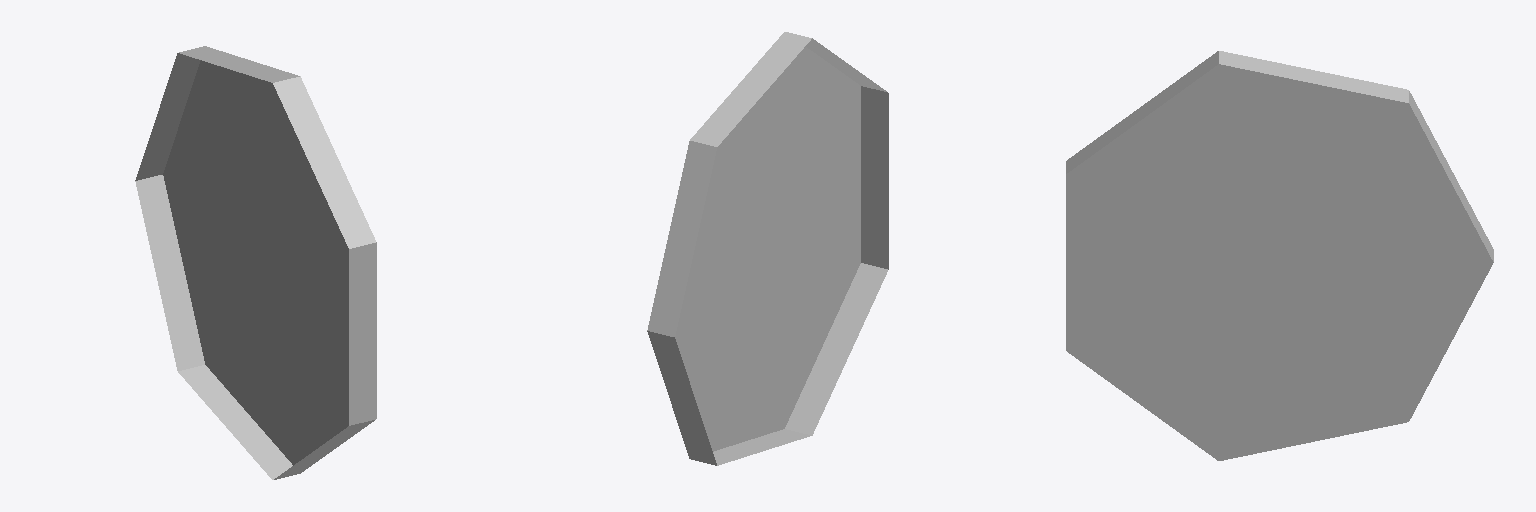
Rendered from clock2.obj.
3 renders of one model, left to right at view 1: azimuth 30°, elevation 25°; view 2: azimuth 150°, elevation 25°; view 3: azimuth 270°, elevation 25°, orthographic.
Size of the model in its own units: 0.01 by 0.1365 by 0.1331.